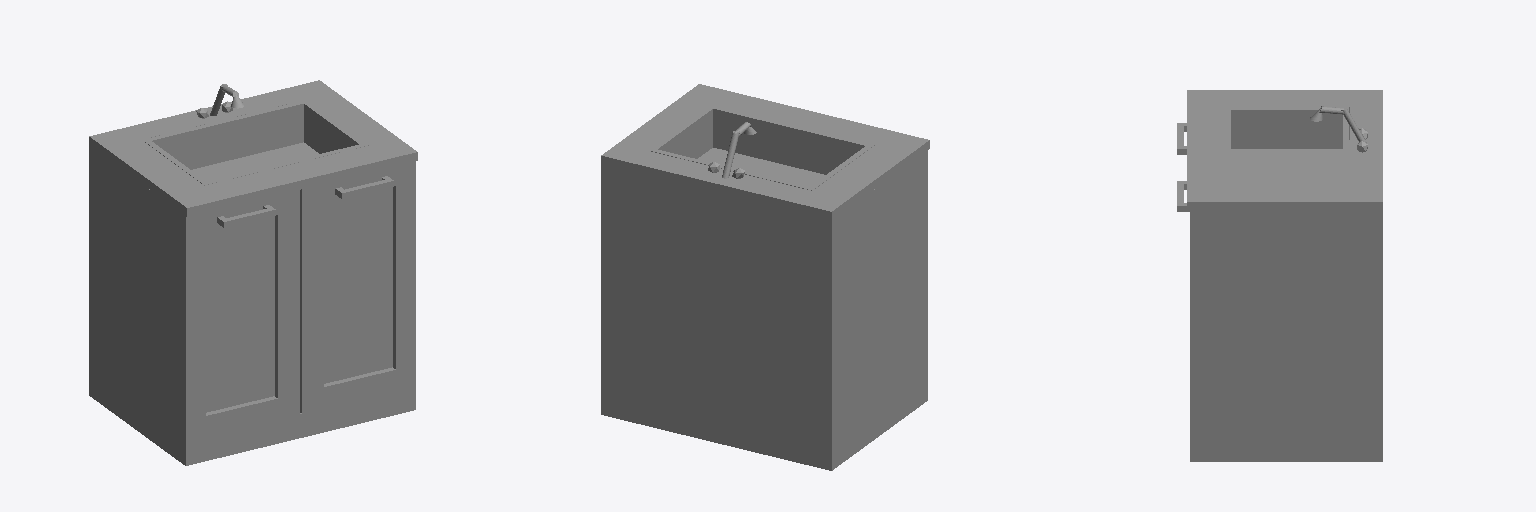
Rendered from cabinetWithBasin.obj.
3 views of the same model, side by side, from view 1: azimuth 30°, elevation 25°; view 2: azimuth 150°, elevation 25°; view 3: azimuth 270°, elevation 25° (orthographic).
Visible parts, largest first — view 1: Cube.007, Cube.001_Cube.002, Cube.003_Cube.004, Cube_Cube.001, Cube.006_Cube, Cube.002_Cube.003, Cube.005_Cube.006; view 2: Cube.007, Cube_Cube.001, Cube.003_Cube.004, Cube.006_Cube, Cube.001_Cube.002; view 3: Cube.007, Cube_Cube.001, Cube.003_Cube.004, Cube.006_Cube, Cube.001_Cube.002.
Boxes of the visible parts, x1=… form: Cube.007: x1=89, y1=146, x2=392, y2=428; Cube.001_Cube.002: x1=182, y1=162, x2=415, y2=441; Cube.003_Cube.004: x1=89, y1=80, x2=417, y2=216; Cube_Cube.001: x1=89, y1=188, x2=392, y2=462; Cube.006_Cube: x1=143, y1=100, x2=368, y2=185; Cube.002_Cube.003: x1=182, y1=386, x2=415, y2=465; Cube.005_Cube.006: x1=227, y1=180, x2=387, y2=226; Cube.007: x1=601, y1=153, x2=924, y2=440; Cube_Cube.001: x1=601, y1=186, x2=924, y2=470; Cube.003_Cube.004: x1=601, y1=84, x2=929, y2=220; Cube.006_Cube: x1=648, y1=105, x2=874, y2=190; Cube.001_Cube.002: x1=925, y1=151, x2=927, y2=377; Cube.007: x1=1197, y1=126, x2=1382, y2=430; Cube_Cube.001: x1=1197, y1=140, x2=1382, y2=461; Cube.003_Cube.004: x1=1187, y1=90, x2=1382, y2=210; Cube.006_Cube: x1=1225, y1=107, x2=1349, y2=186; Cube.001_Cube.002: x1=1190, y1=211, x2=1196, y2=436.
Bounding box in the file's own units: 0.8029 × 0.9939 × 0.6222.